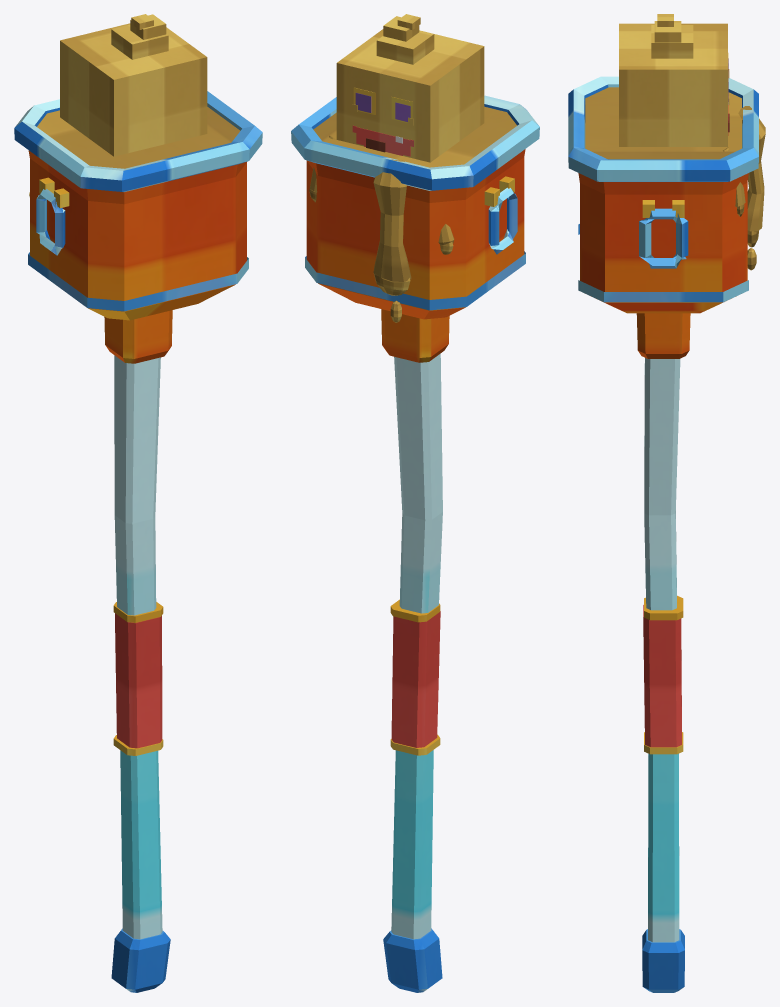
File: furnace_staff_heal.obj
3 views of the same model, side by side, from view 1: azimuth 30°, elevation 25°; view 2: azimuth 150°, elevation 25°; view 3: azimuth 270°, elevation 25° (orthographic).
Parts seen in each view (by area): view 1: forged_square_cauldron, wooden_shaft, emerging_voxel_body, thick_square_rim, leather_grip, EM_elemental_pool, iron_foot_ferrule, neck_ferrule, lower_iron_binding, emerging_golden_curl_base, iron_side_loop_-1; view 2: forged_square_cauldron, wooden_shaft, emerging_voxel_body, thick_square_rim, leather_grip, EM_overflow_0, EM_elemental_pool, iron_foot_ferrule, neck_ferrule, lower_iron_binding, emerging_golden_curl_base, iron_side_loop_-1 (+1 smaller); view 3: forged_square_cauldron, wooden_shaft, emerging_voxel_body, thick_square_rim, leather_grip, EM_elemental_pool, neck_ferrule, iron_foot_ferrule, lower_iron_binding, iron_side_loop_1, EM_overflow_0, emerging_golden_curl_base (+2 smaller).
Boxes of the visible parts, x1=… form: forged_square_cauldron: x1=28, y1=150, x2=246, y2=320; wooden_shaft: x1=114, y1=355, x2=162, y2=939; emerging_voxel_body: x1=60, y1=23, x2=207, y2=156; thick_square_rim: x1=14, y1=91, x2=262, y2=191; leather_grip: x1=115, y1=613, x2=162, y2=748; EM_elemental_pool: x1=37, y1=107, x2=240, y2=168; iron_foot_ferrule: x1=111, y1=928, x2=170, y2=992; neck_ferrule: x1=104, y1=310, x2=172, y2=363; lower_iron_binding: x1=28, y1=252, x2=248, y2=311; emerging_golden_curl_base: x1=111, y1=24, x2=168, y2=59; iron_side_loop_-1: x1=36, y1=189, x2=65, y2=255; forged_square_cauldron: x1=306, y1=149, x2=525, y2=319; wooden_shaft: x1=391, y1=353, x2=442, y2=939; emerging_voxel_body: x1=336, y1=29, x2=484, y2=162; thick_square_rim: x1=291, y1=95, x2=539, y2=190; leather_grip: x1=391, y1=611, x2=440, y2=747; EM_overflow_0: x1=373, y1=159, x2=411, y2=282; EM_elemental_pool: x1=313, y1=106, x2=517, y2=167; iron_foot_ferrule: x1=383, y1=928, x2=442, y2=992; neck_ferrule: x1=381, y1=309, x2=449, y2=362; lower_iron_binding: x1=305, y1=251, x2=525, y2=310; emerging_golden_curl_base: x1=376, y1=30, x2=434, y2=64; iron_side_loop_-1: x1=488, y1=187, x2=517, y2=254; forged_square_cauldron: x1=578, y1=173, x2=748, y2=313; wooden_shaft: x1=644, y1=358, x2=680, y2=942; emerging_voxel_body: x1=619, y1=23, x2=727, y2=146; thick_square_rim: x1=568, y1=76, x2=758, y2=181; leather_grip: x1=643, y1=605, x2=681, y2=747; EM_elemental_pool: x1=585, y1=87, x2=741, y2=159; neck_ferrule: x1=636, y1=313, x2=690, y2=358; iron_foot_ferrule: x1=642, y1=929, x2=684, y2=992; lower_iron_binding: x1=578, y1=224, x2=748, y2=302; iron_side_loop_1: x1=639, y1=208, x2=688, y2=268; EM_overflow_0: x1=738, y1=106, x2=765, y2=232; emerging_golden_curl_base: x1=651, y1=25, x2=693, y2=58.
Size of the model in its own units: 0.5475 by 2.72 by 0.5006.
